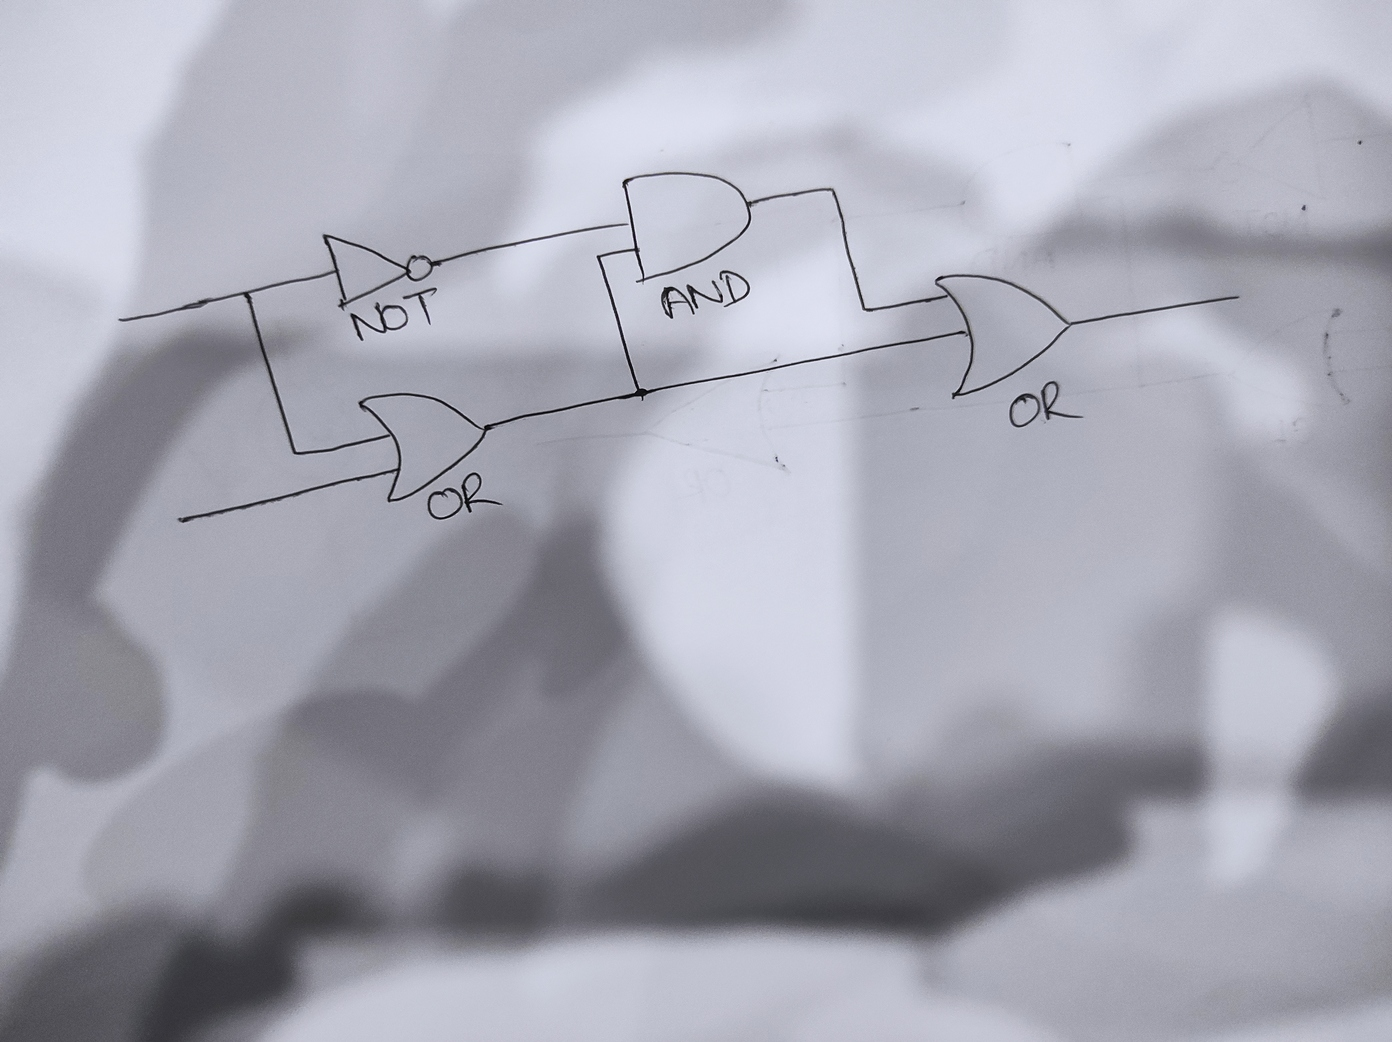and: (619, 167, 757, 286)
junction: (231, 280, 260, 308), (817, 177, 846, 205), (281, 443, 306, 463), (629, 382, 651, 402), (854, 301, 875, 321), (591, 247, 608, 264)
not: (320, 229, 440, 312)
or: (931, 270, 1075, 401), (353, 391, 490, 505)
terminal: (1211, 285, 1253, 311), (109, 310, 134, 329), (171, 510, 192, 530)
text: (347, 285, 440, 345), (657, 271, 751, 320), (424, 470, 504, 521), (1005, 382, 1084, 428)
